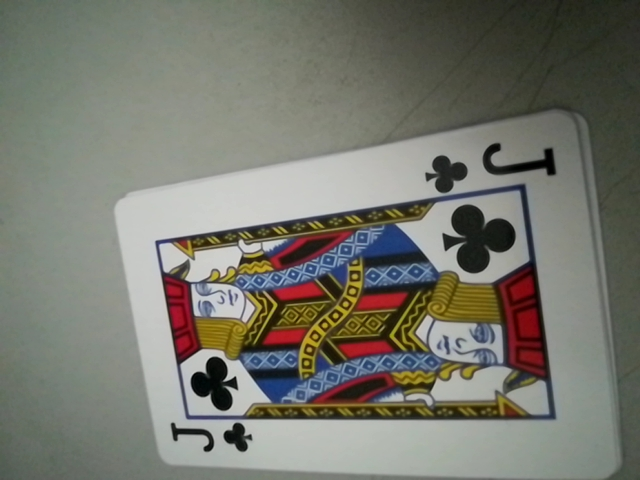mh j: (422, 133, 558, 197), (164, 413, 251, 464)
